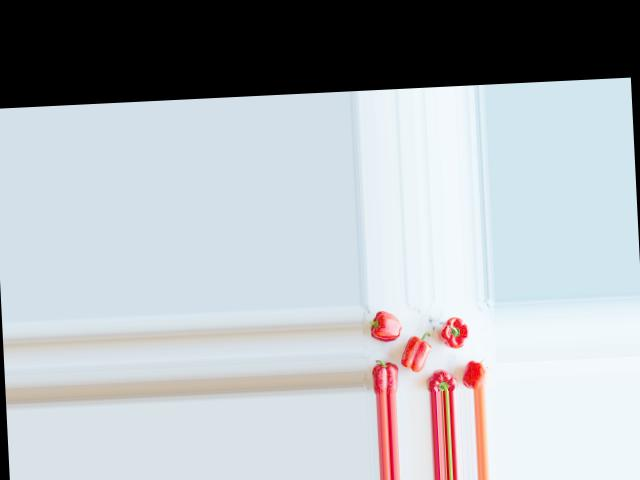bell_pepper: (425, 367, 456, 391)
